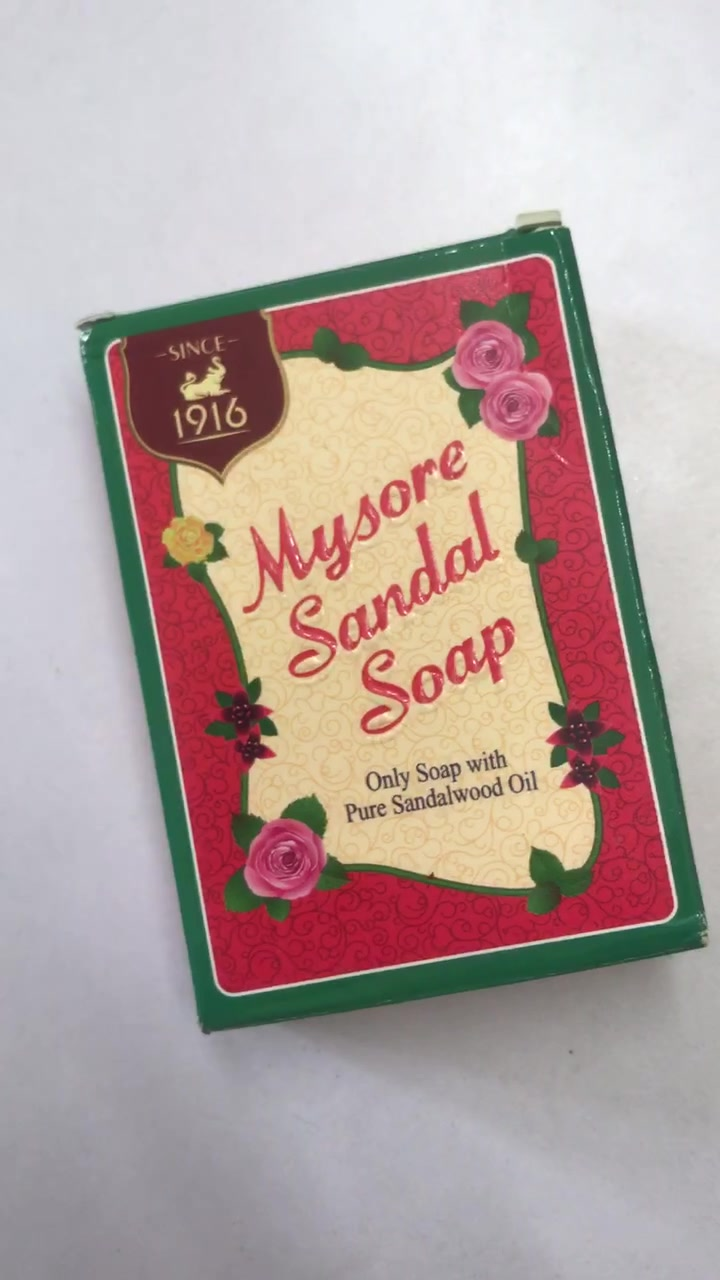mysore sandal soap: (81, 235, 710, 1043)
